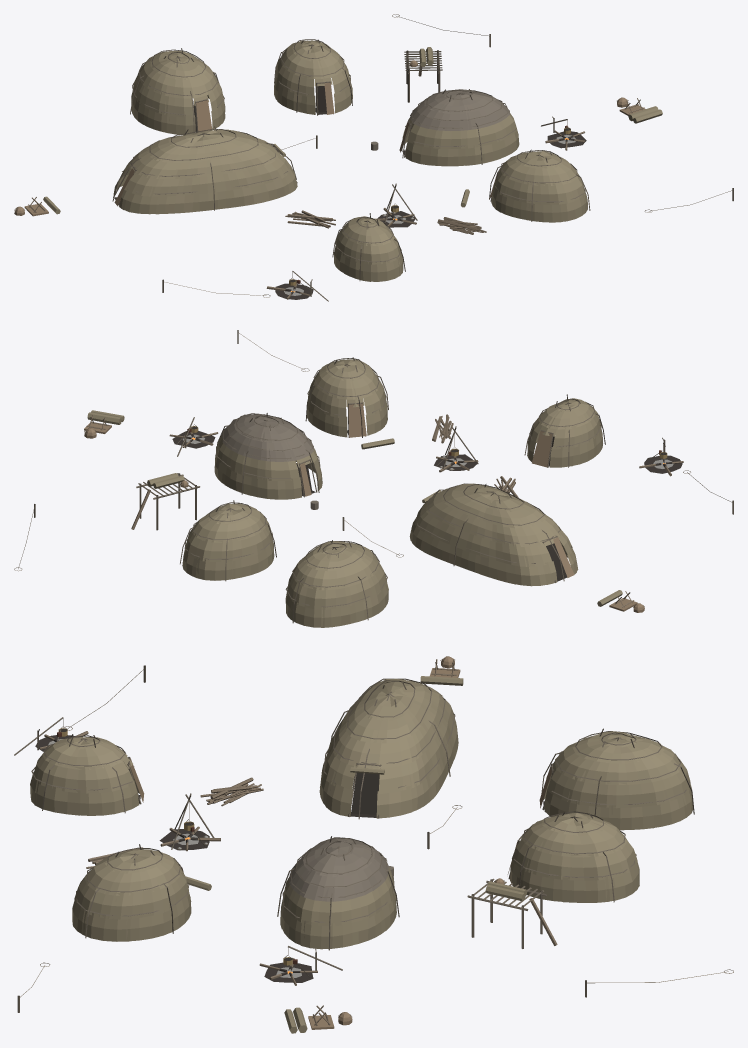
The model's file is potawatomi_camp_1812_far_west__camp_1812.glb.
3 views of the same model, one above another, from view 1: azimuth 30°, elevation 25°; view 2: azimuth 150°, elevation 25°; view 3: azimuth 270°, elevation 25° (orthographic). The views are drawn at different scales.
Parts seen in each view (by area): view 1: potawatomi_camp_1812_far_west__camp_1812; view 2: potawatomi_camp_1812_far_west__camp_1812; view 3: potawatomi_camp_1812_far_west__camp_1812.
Boxes of the visible parts, x1=… form: potawatomi_camp_1812_far_west__camp_1812: x1=14, y1=14, x2=733, y2=301; potawatomi_camp_1812_far_west__camp_1812: x1=14, y1=330, x2=733, y2=627; potawatomi_camp_1812_far_west__camp_1812: x1=14, y1=656, x2=733, y2=1033.
Bounding box in the file's own units: 31.11 × 3.08 × 25.47.
